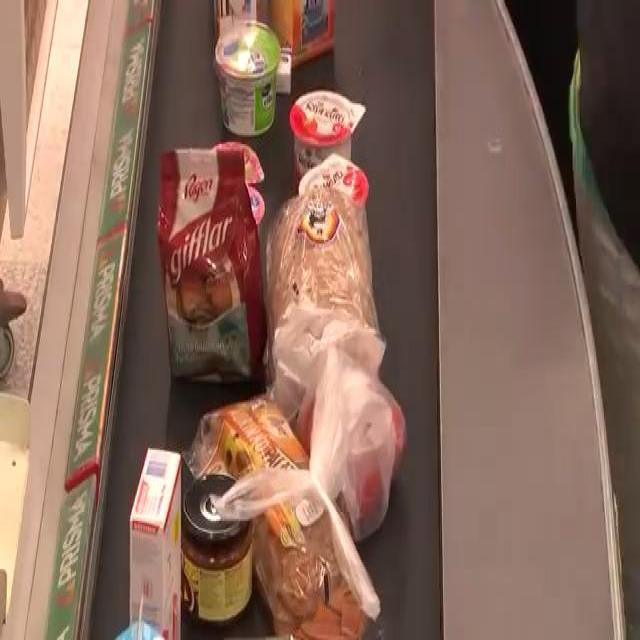food-box: (200, 405, 378, 640), (159, 165, 283, 398), (276, 188, 379, 382), (188, 453, 255, 631), (206, 16, 290, 139), (298, 83, 357, 168), (297, 159, 368, 202)
utility-box: (132, 435, 183, 640)
vegetable: (287, 348, 420, 526)
